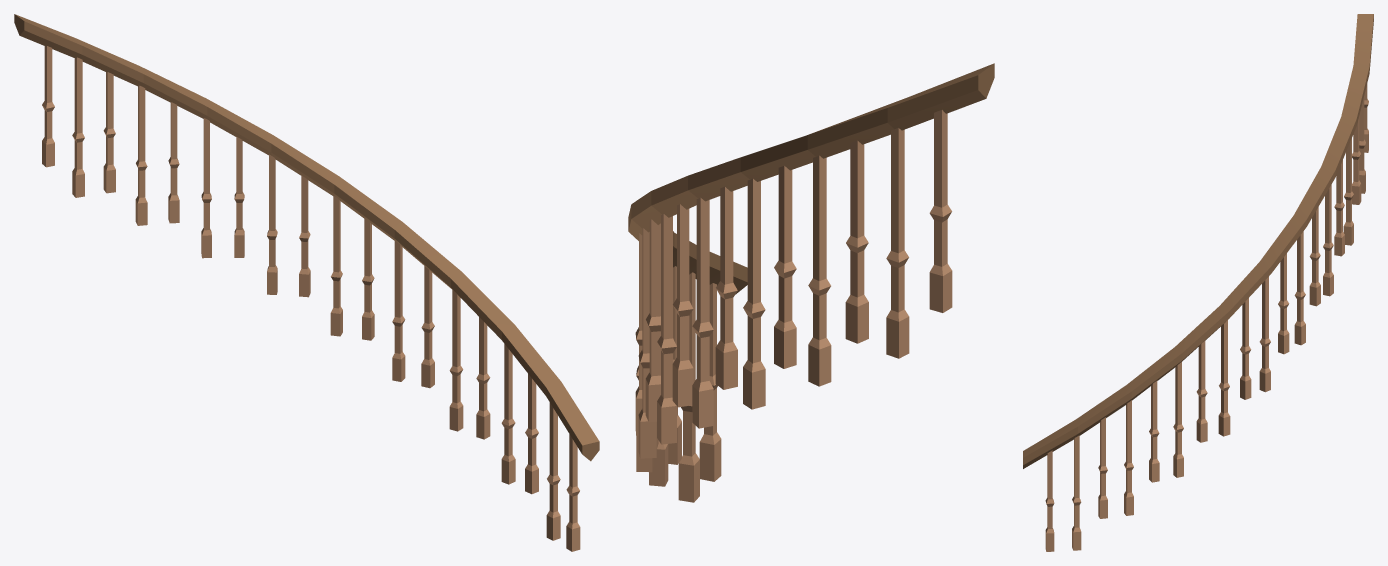
Rendered from Stairs_Curved_Large_Handrail_Outer.obj.
The picture shows the model from 3 angles, left to right: view 1: azimuth 30°, elevation 25°; view 2: azimuth 150°, elevation 25°; view 3: azimuth 270°, elevation 25°; orthographic projection. The views are drawn at different scales.
Visible parts, largest first — view 1: object20, object2, object5, object4, object9, object3, object8, object14, object6, object15, object11, object18 (+8 smaller); view 2: object20, object8, object9, object10, object1, object16, object17, object11, object12, object14, object19, object13 (+6 smaller); view 3: object20, object4, object14, object1, object2, object15, object10, object13, object19, object6, object5, object3 (+7 smaller).
Boxes of the visible parts, x1=… form: object20: x1=14, y1=14, x2=599, y2=461; object2: x1=449, y1=290, x2=463, y2=431; object5: x1=501, y1=344, x2=515, y2=484; object4: x1=392, y1=240, x2=405, y2=381; object9: x1=72, y1=57, x2=84, y2=197; object3: x1=546, y1=402, x2=560, y2=540; object8: x1=135, y1=85, x2=147, y2=225; object14: x1=330, y1=195, x2=342, y2=336; object6: x1=476, y1=317, x2=490, y2=439; object15: x1=421, y1=266, x2=434, y2=388; object11: x1=42, y1=46, x2=54, y2=167; object18: x1=525, y1=374, x2=538, y2=494; object20: x1=628, y1=63, x2=994, y2=294; object8: x1=808, y1=155, x2=831, y2=386; object9: x1=886, y1=127, x2=909, y2=358; object10: x1=743, y1=178, x2=765, y2=409; object1: x1=692, y1=197, x2=713, y2=428; object16: x1=845, y1=140, x2=868, y2=343; object17: x1=774, y1=165, x2=796, y2=368; object11: x1=929, y1=110, x2=952, y2=312; object12: x1=715, y1=186, x2=737, y2=389; object14: x1=657, y1=214, x2=676, y2=444; object19: x1=672, y1=204, x2=693, y2=407; object13: x1=645, y1=219, x2=660, y2=422; object20: x1=1023, y1=14, x2=1373, y2=468; object4: x1=1218, y1=320, x2=1230, y2=436; object14: x1=1259, y1=277, x2=1270, y2=392; object1: x1=1294, y1=231, x2=1305, y2=345; object2: x1=1173, y1=362, x2=1183, y2=477; object15: x1=1196, y1=340, x2=1207, y2=442; object10: x1=1323, y1=185, x2=1333, y2=296; object13: x1=1240, y1=298, x2=1251, y2=399; object19: x1=1278, y1=253, x2=1289, y2=354; object6: x1=1149, y1=380, x2=1159, y2=482; object5: x1=1124, y1=400, x2=1133, y2=515; object3: x1=1072, y1=435, x2=1081, y2=550.
Size of the model in its own units: 2.15 by 2.65 by 2.15.
